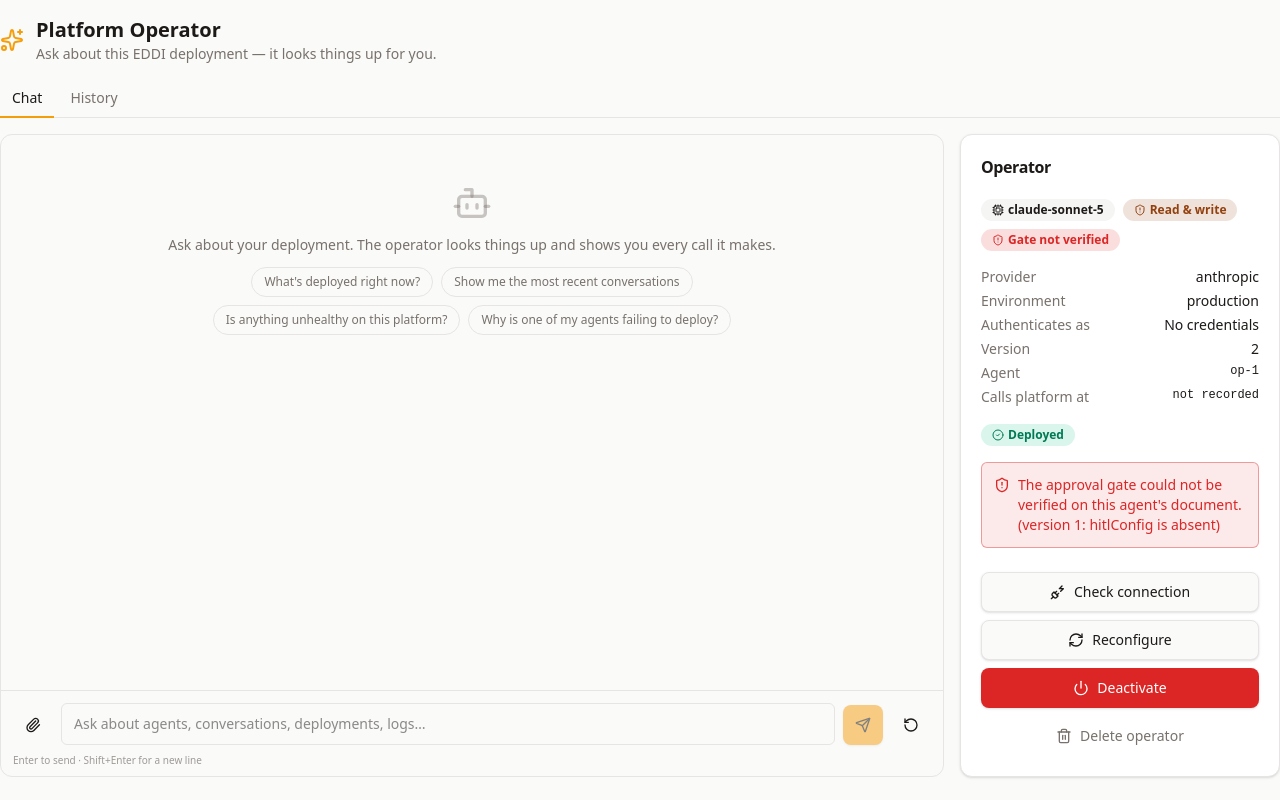
OperatorPage › when a turn pauses on a gated tool call › renders the backend's resolved-request preview instead of guessing from the tool name
The width and height of the screenshot is (1280, 800).
In the text box with test id "operator-input": (448, 724) [61,703,835,745], type "create an agent"
Then press Enter
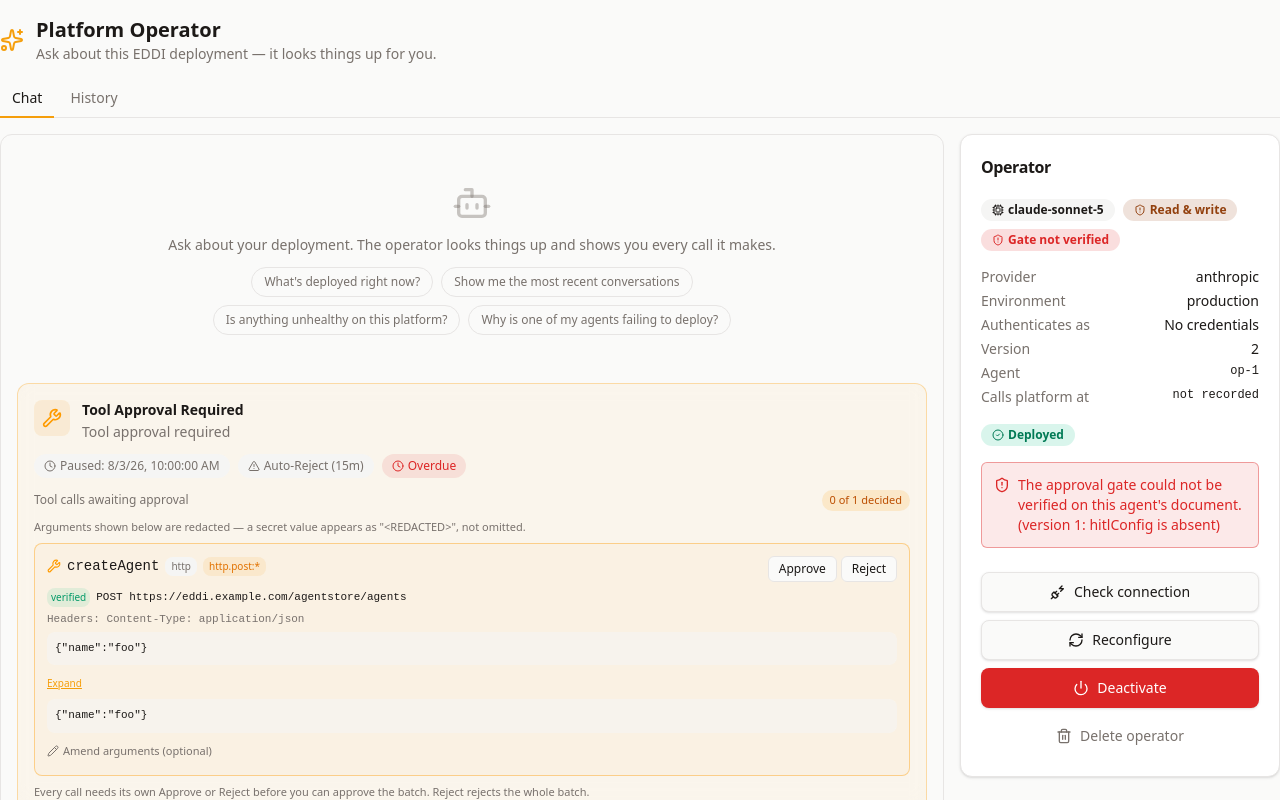
expect the element with test id "request-preview-call-1" is shown: met, box [47,588,897,693]
expect the text "verified POST https://eddi.example.com/agentstore/agents" is shown: met, box [47,588,406,607]
